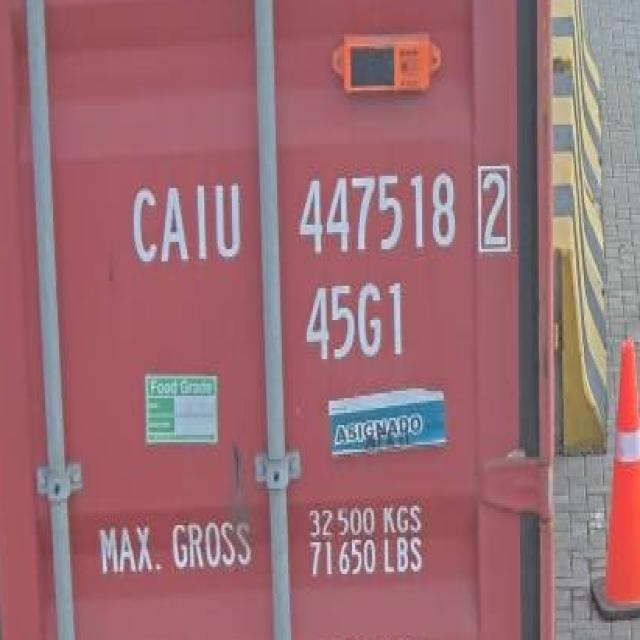dv: (474, 152, 516, 264)
owner: (127, 171, 247, 274)
serial: (292, 166, 464, 265)
size: (300, 273, 414, 371)
